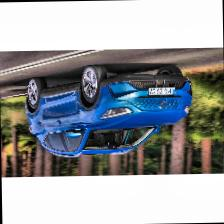EV: (25, 64, 194, 159)
